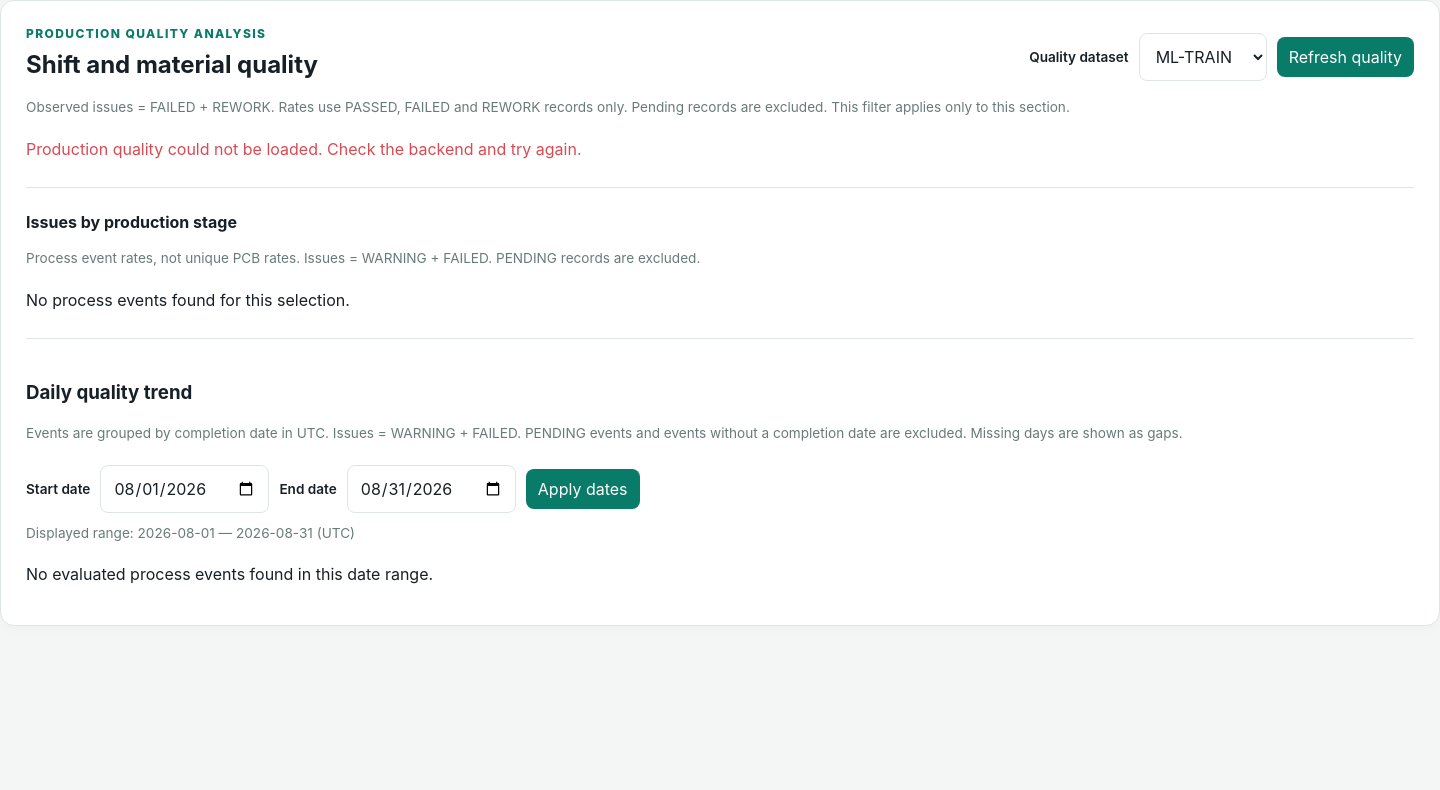
Test: Production quality charts › retries successfully after a connection error
expect the message "Production quality could not be loaded. Check the backend and try again." is shown: met, box [26,139,582,159]
Click the button "Refresh quality".
click(1345, 56)  # box [1277,36,1414,76]
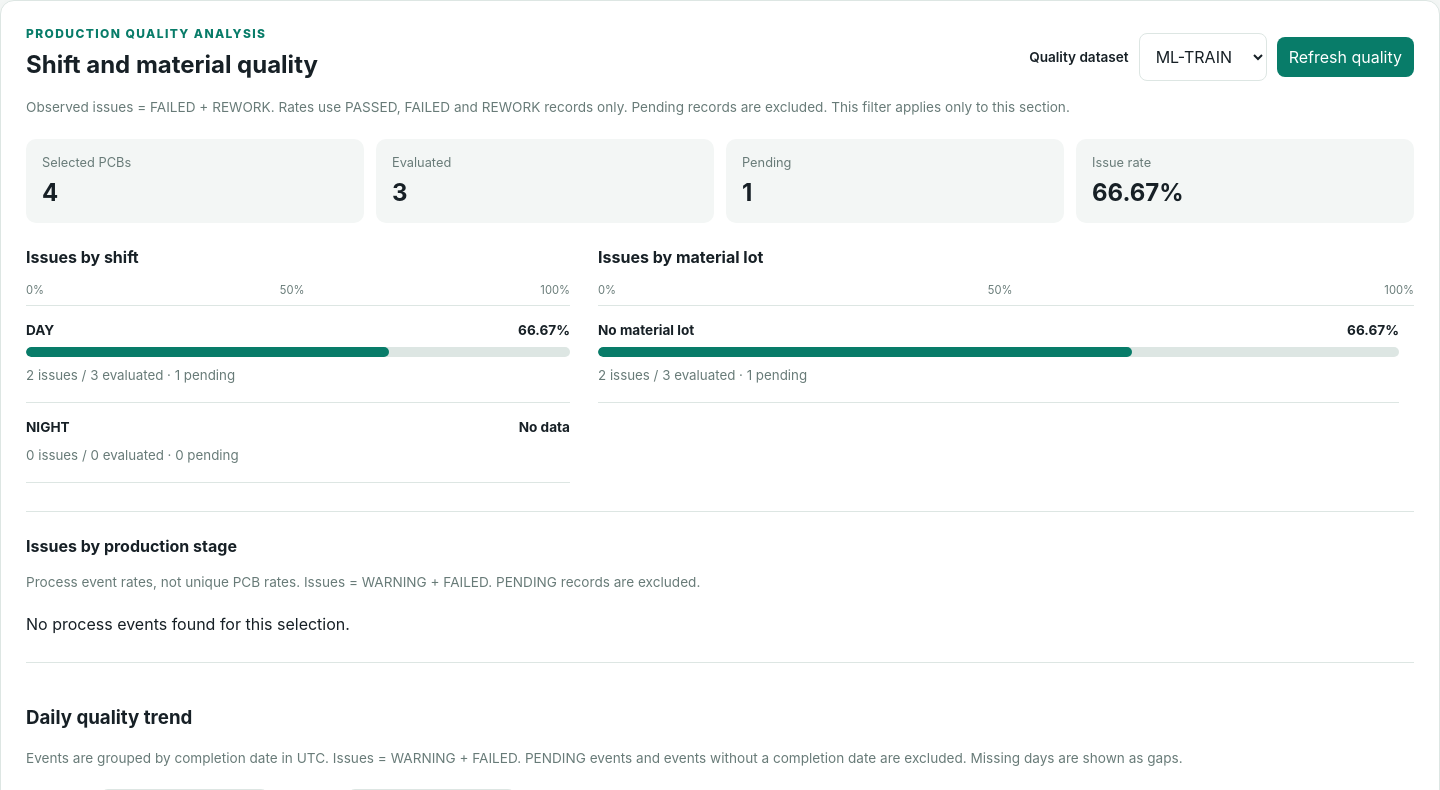
expect the text "No material lot" is shown: met, box [598,322,694,338]
